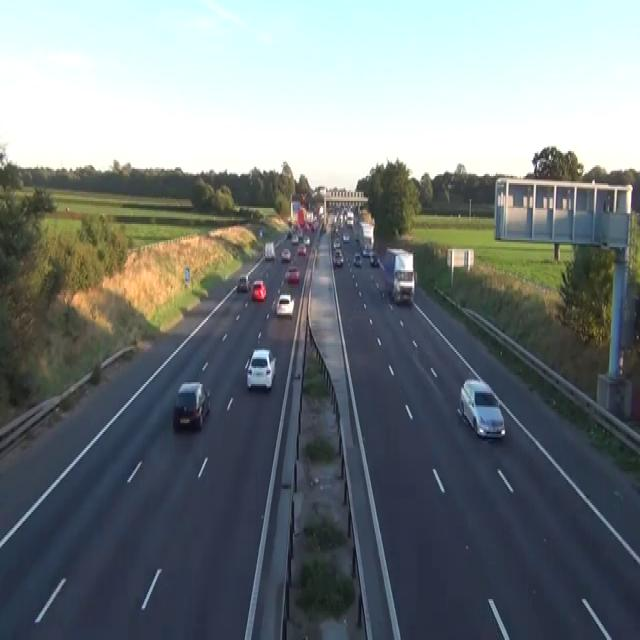Car: (456, 379, 505, 439), (172, 380, 211, 430), (244, 347, 276, 389), (392, 268, 415, 304), (275, 292, 294, 316), (251, 279, 266, 301), (285, 265, 299, 283), (332, 249, 343, 267), (237, 276, 248, 292), (369, 250, 379, 266), (353, 250, 362, 266), (281, 247, 291, 261), (362, 242, 372, 256), (271, 295, 277, 311), (297, 244, 306, 254), (303, 221, 312, 231), (332, 238, 340, 249), (291, 233, 299, 243), (328, 202, 335, 212), (320, 222, 326, 233), (303, 234, 310, 243), (342, 233, 349, 242), (297, 228, 303, 238), (286, 230, 292, 238), (287, 215, 292, 224), (259, 228, 262, 236)
Truck: (383, 247, 416, 304), (358, 220, 374, 256), (264, 240, 275, 260)
